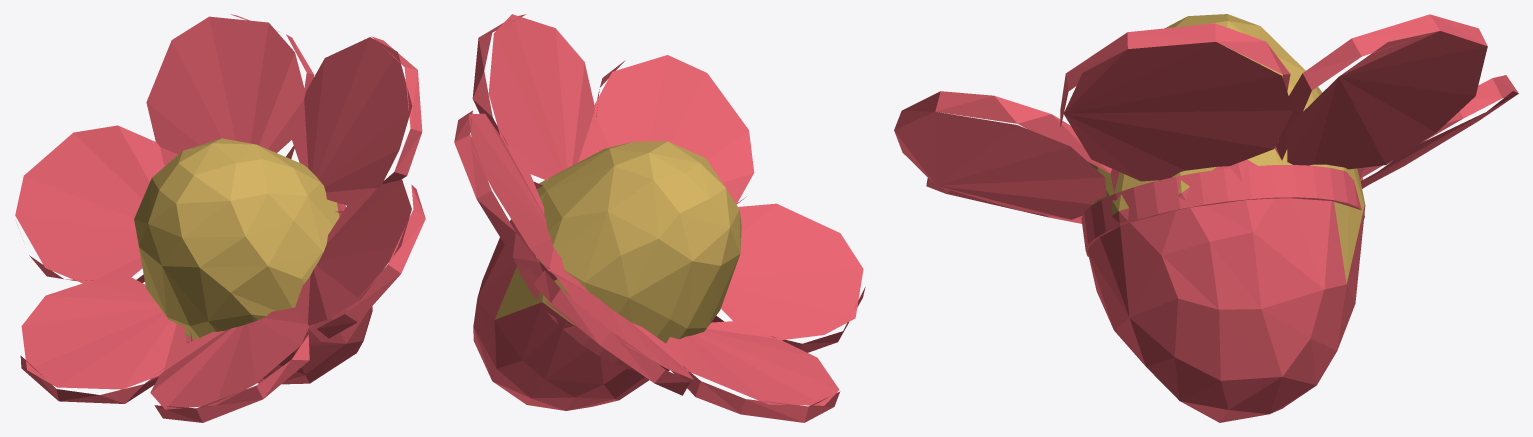
The model's file is flower-large.gltf.
3 renders of one model, left to right at view 1: azimuth 30°, elevation 25°; view 2: azimuth 150°, elevation 25°; view 3: azimuth 270°, elevation 25°, orthographic. The views are drawn at different scales.
Visible parts, largest first — view 1: flower-large; view 2: flower-large; view 3: flower-large.
Boxes of the visible parts, left/top/right/bottom form: flower-large: left=15, top=14, right=425, bottom=422; flower-large: left=454, top=14, right=865, bottom=422; flower-large: left=894, top=14, right=1518, bottom=422.
Bounding box in the file's own units: 0.2959 × 0.2707 × 0.354.
